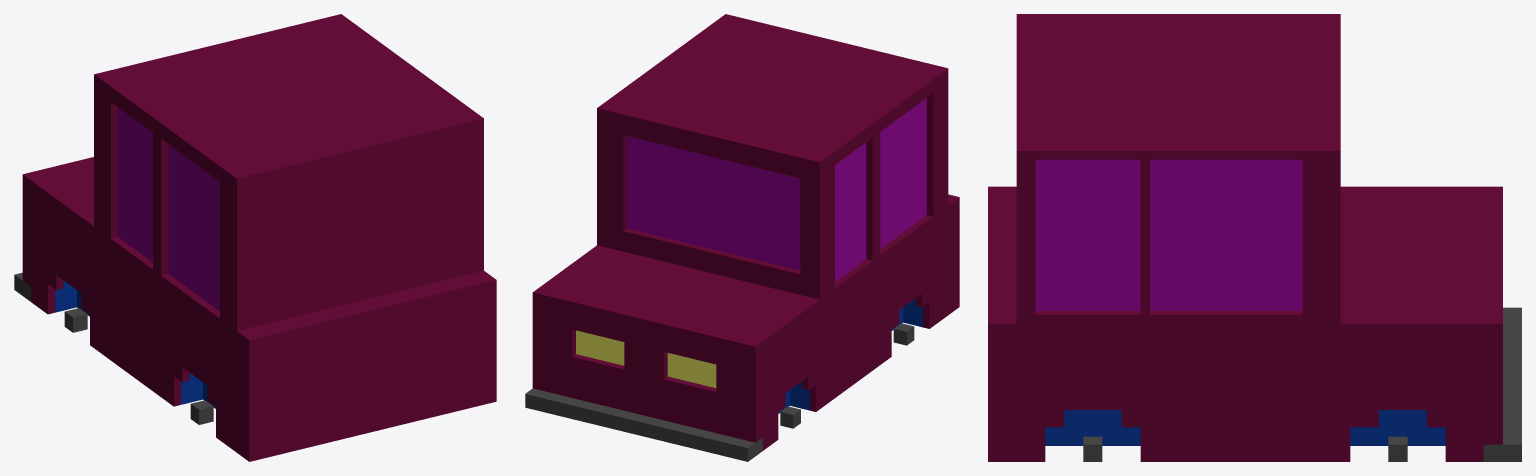
File: Auto1.obj
3 renders of one model, left to right at view 1: azimuth 30°, elevation 25°; view 2: azimuth 150°, elevation 25°; view 3: azimuth 270°, elevation 25°, orthographic. The views are drawn at different scales.
Size of the model in its own units: 3.4 by 3.6 by 5.6.
1 material, 1 textured.
